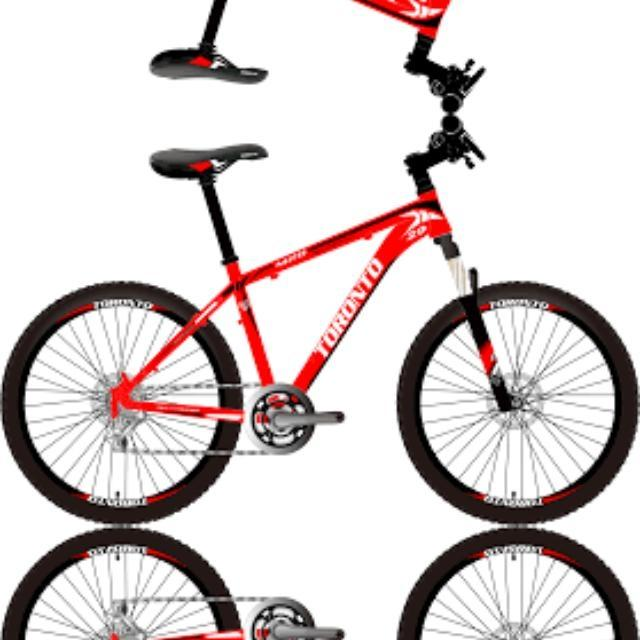obstacle: (1, 115, 640, 523), (1, 528, 640, 640), (1, 0, 640, 111)
